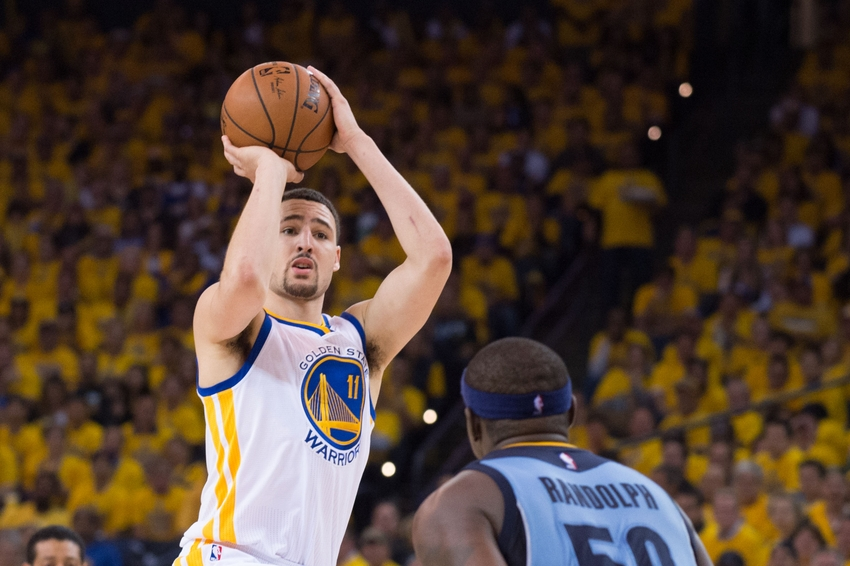Basketball: (219, 59, 337, 177)
